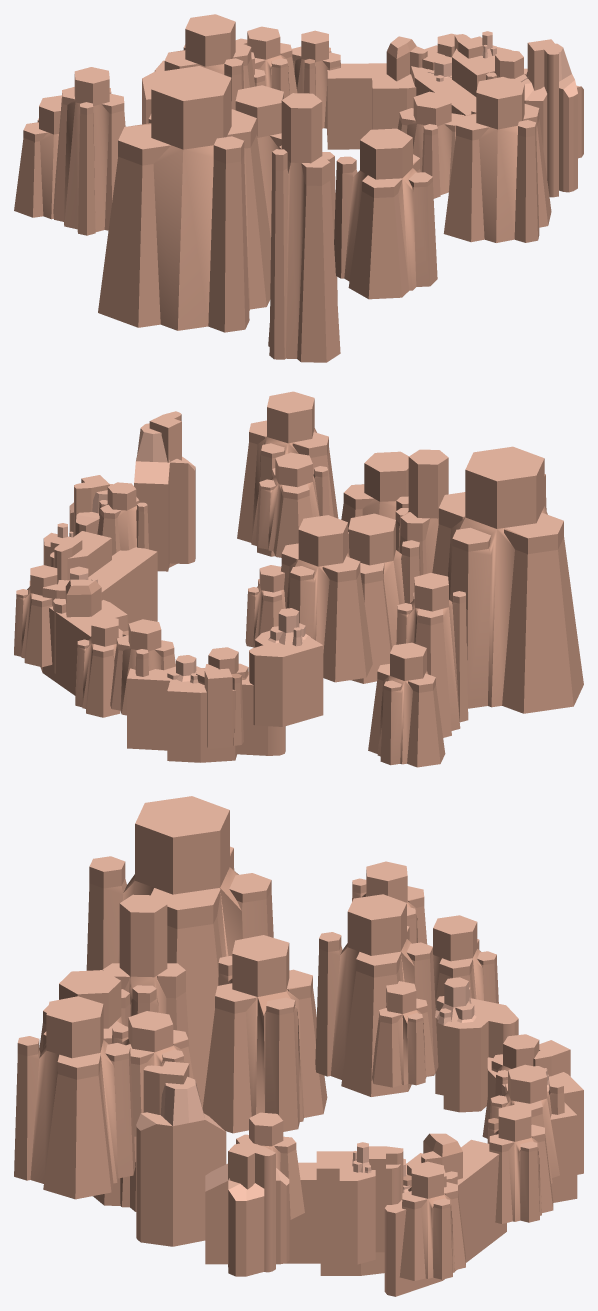
The model's file is rocks_2.fbx.
3 views of the same model, one above another, from view 1: azimuth 30°, elevation 25°; view 2: azimuth 150°, elevation 25°; view 3: azimuth 270°, elevation 25° (orthographic). The views are drawn at different scales.
Parts seen in each view (by area): view 1: Cube.012; view 2: Cube.012; view 3: Cube.012.
Part boxes in pixels (<box>): Cube.012: <box>14,14,583,362</box>; Cube.012: <box>14,391,583,767</box>; Cube.012: <box>14,796,583,1296</box>.
Size of what is drawn, in the model's own units: 54.89 by 28.92 by 46.35.
